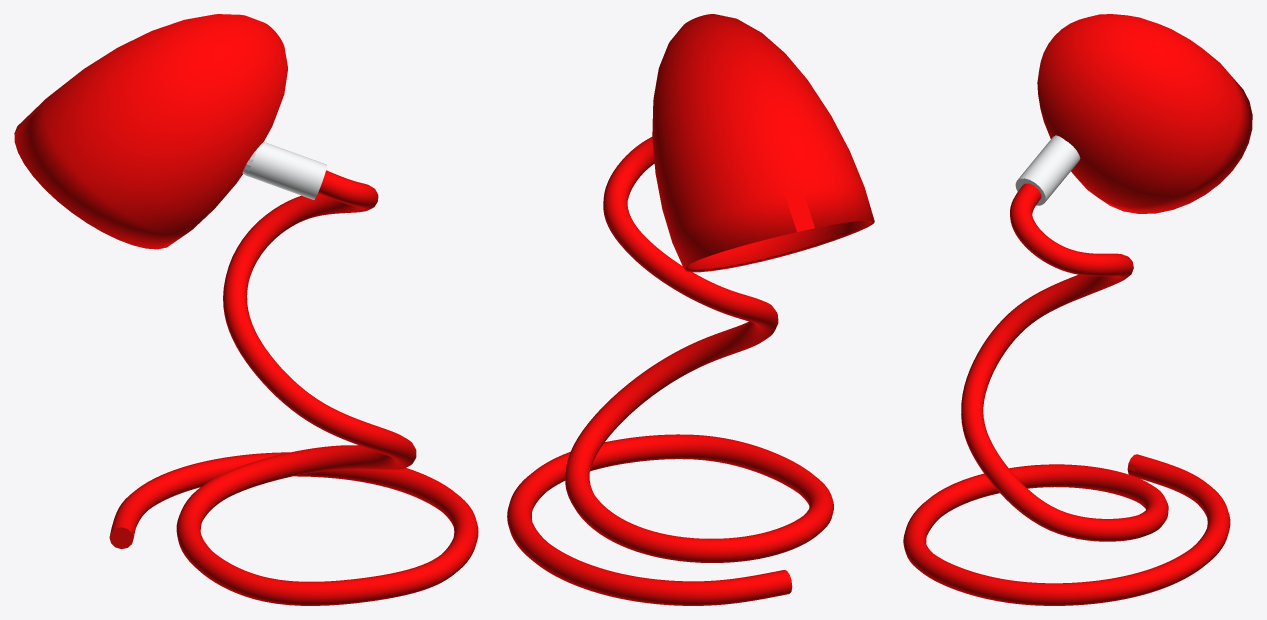
The model's file is lampara.obj.
3 views of the same model, side by side, from view 1: azimuth 30°, elevation 25°; view 2: azimuth 150°, elevation 25°; view 3: azimuth 270°, elevation 25° (orthographic). The views are drawn at different scales.
Visible parts, largest first — view 1: Lamp:Holder1; view 2: Lamp:Holder1; view 3: Lamp:Holder1.
Part boxes in pixels (left/top/right/bottom): Lamp:Holder1: left=14, top=14, right=478, bottom=605; Lamp:Holder1: left=507, top=14, right=874, bottom=605; Lamp:Holder1: left=903, top=14, right=1252, bottom=605.
Size of the model in its own units: 0.541 by 0.7204 by 0.4627.
2 materials, 2 textured.
